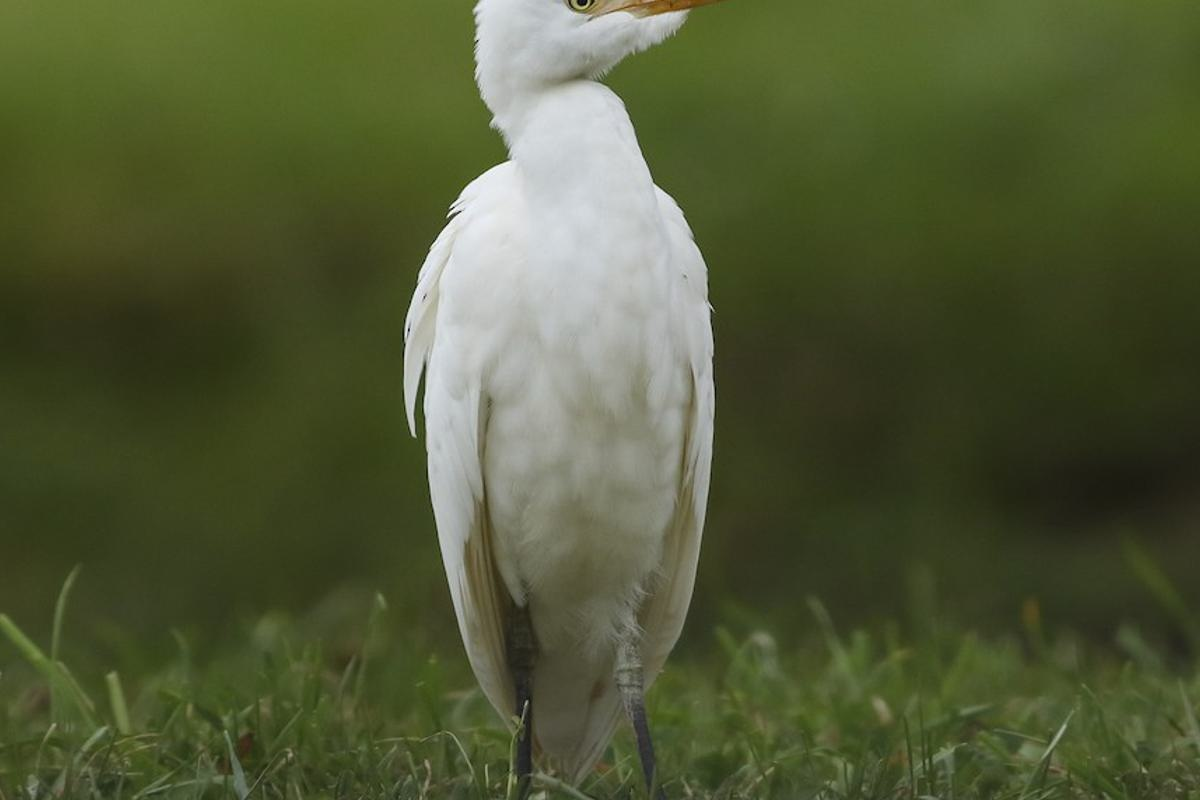egret: (422, 1, 747, 786)
